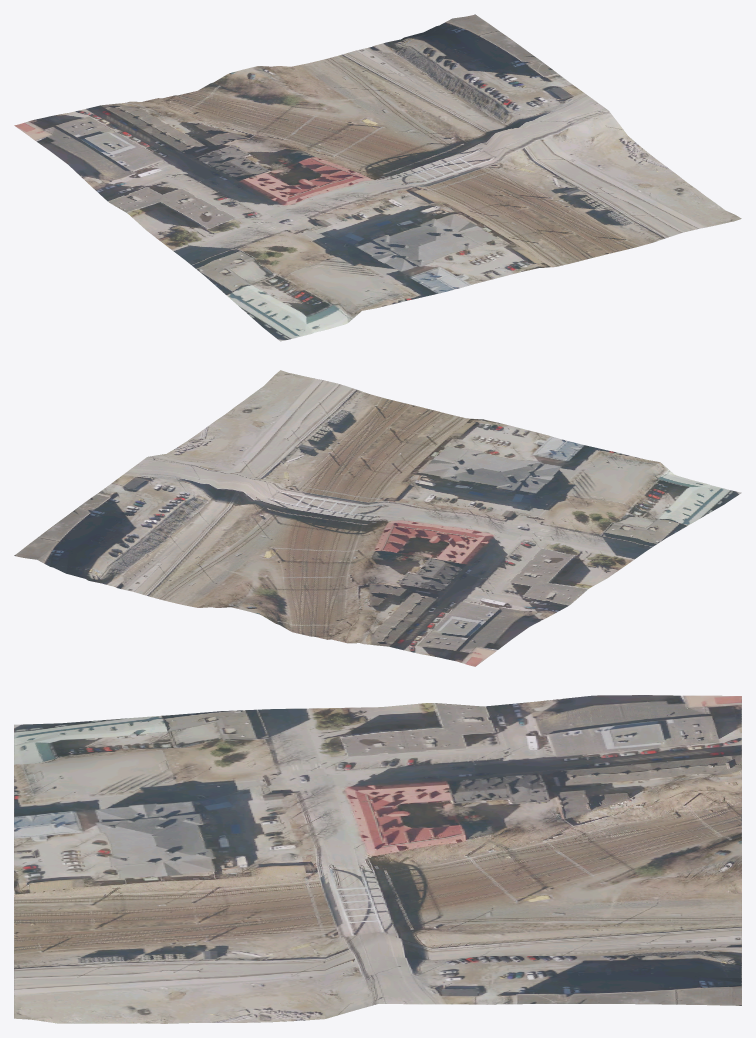
File: CM_Terrain_24487797_6821432.fbx
The picture shows the model from 3 angles, top to bottom: view 1: azimuth 30°, elevation 25°; view 2: azimuth 150°, elevation 25°; view 3: azimuth 270°, elevation 25°; orthographic projection. The views are drawn at different scales.
Visible parts, largest first — view 1: CM_Terrain_24487797_6821432_LOD0; view 2: CM_Terrain_24487797_6821432_LOD0; view 3: CM_Terrain_24487797_6821432_LOD0.
Part boxes in pixels (x1,y1,x2,y2): CM_Terrain_24487797_6821432_LOD0: [14, 14, 741, 341]; CM_Terrain_24487797_6821432_LOD0: [14, 370, 741, 666]; CM_Terrain_24487797_6821432_LOD0: [14, 695, 741, 1023].
Size of what is drawn, in the model's own units: 205 by 10.03 by 205.
